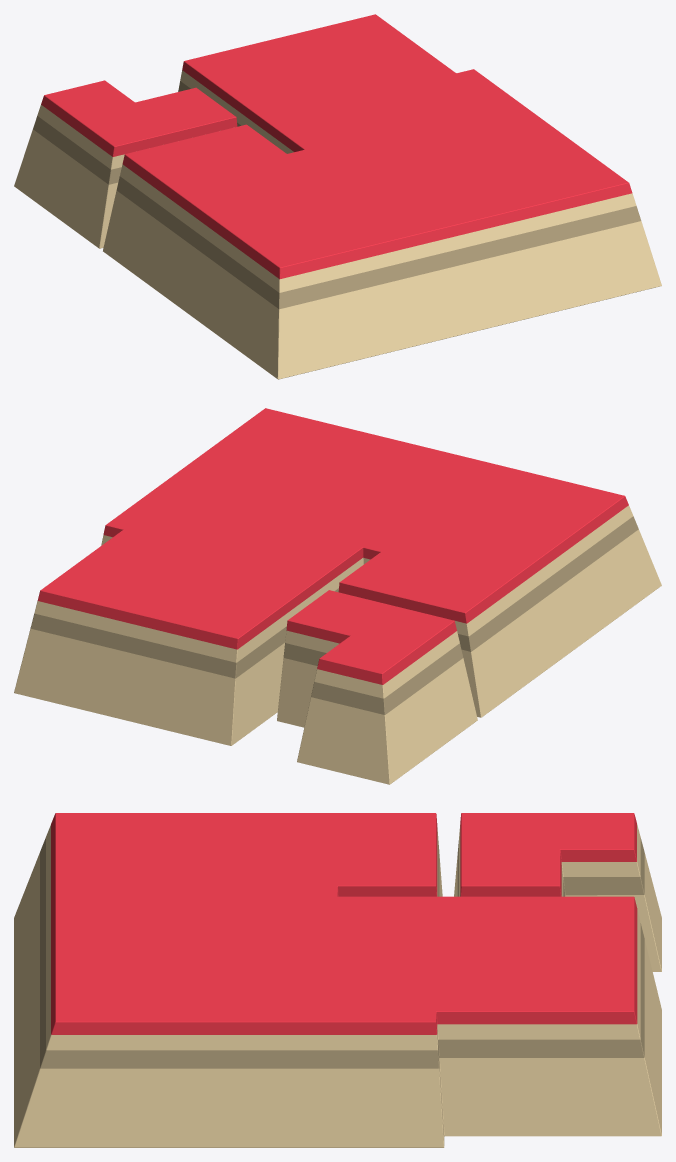
The model's file is Main_Build.fbx.
The picture shows the model from 3 angles, top to bottom: view 1: azimuth 30°, elevation 25°; view 2: azimuth 150°, elevation 25°; view 3: azimuth 270°, elevation 25°; orthographic projection. The views are drawn at different scales.
Parts seen in each view (by area): view 1: Main_Build; view 2: Main_Build; view 3: Main_Build.
Boxes of the visible parts, x1,y1,x2,y2 form: Main_Build: (14, 14, 661, 379); Main_Build: (14, 408, 661, 784); Main_Build: (14, 813, 661, 1147).
Size of the model in its own units: 550 by 130 by 655.
